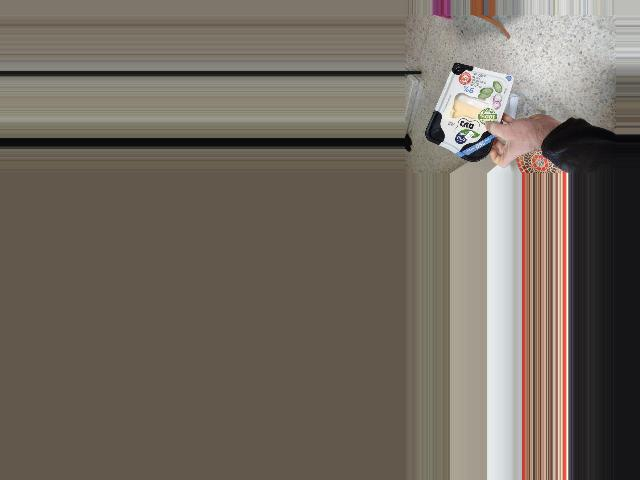cheese: (431, 63, 499, 165)
